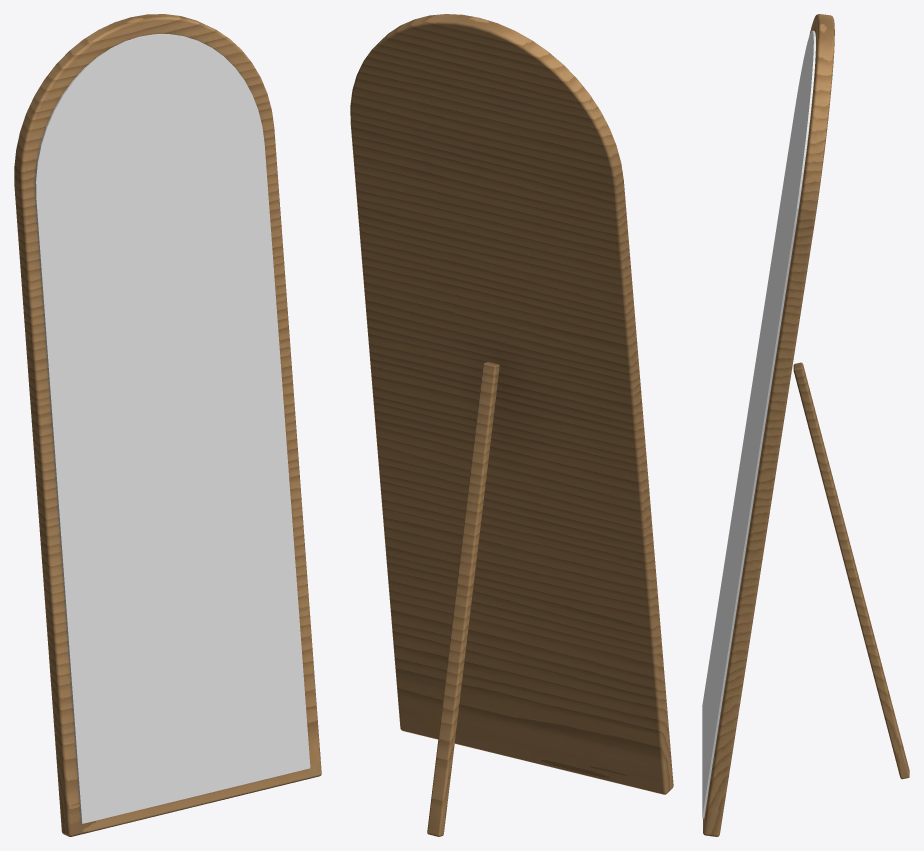
File: arch-oak.glb
The picture shows the model from 3 angles, left to right: view 1: azimuth 30°, elevation 25°; view 2: azimuth 150°, elevation 25°; view 3: azimuth 270°, elevation 25°; orthographic projection. The views are drawn at different scales.
Parts seen in each view (by area): view 1: mirror, wood_x; view 2: wood_x; view 3: wood_x, mirror.
Boxes of the visible parts, x1,y1,x2,y2 form: mirror: (35,34,310,823); wood_x: (14,14,321,836); wood_x: (350,14,673,836); wood_x: (703,14,909,836); mirror: (702,30,815,818).
Size of the model in its own units: 0.6 by 1.69 by 0.4242.
Materials: 2 (1 with a texture image).
